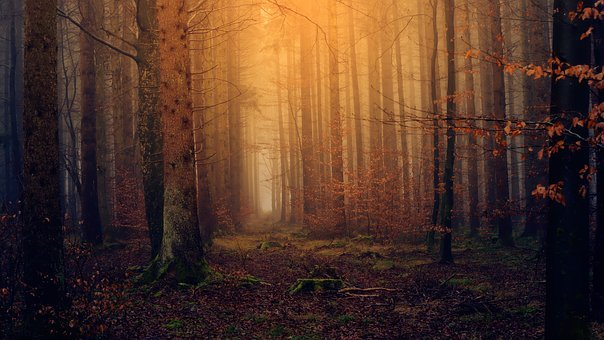forest: (2, 2, 601, 340)
